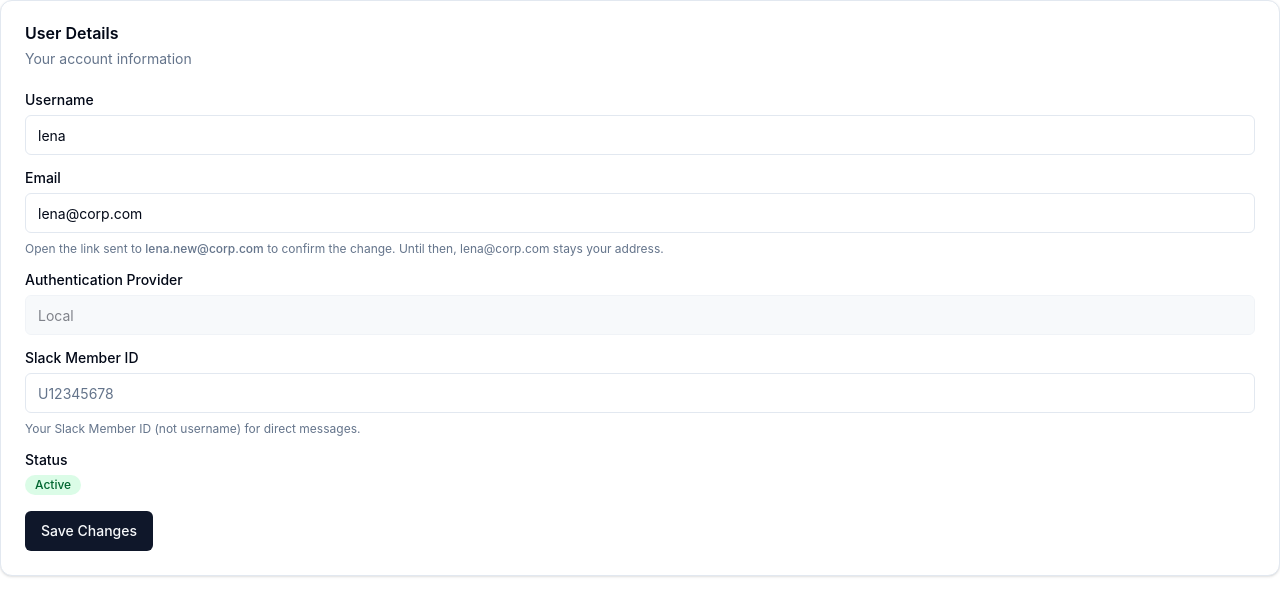
Test: UserDetailsCard › drops the notice of an earlier pending change once the address changed at once
Replace the text in the field labelled "Email" with "lena.k@corp.com" at (640, 213), box [25,193,1255,233]
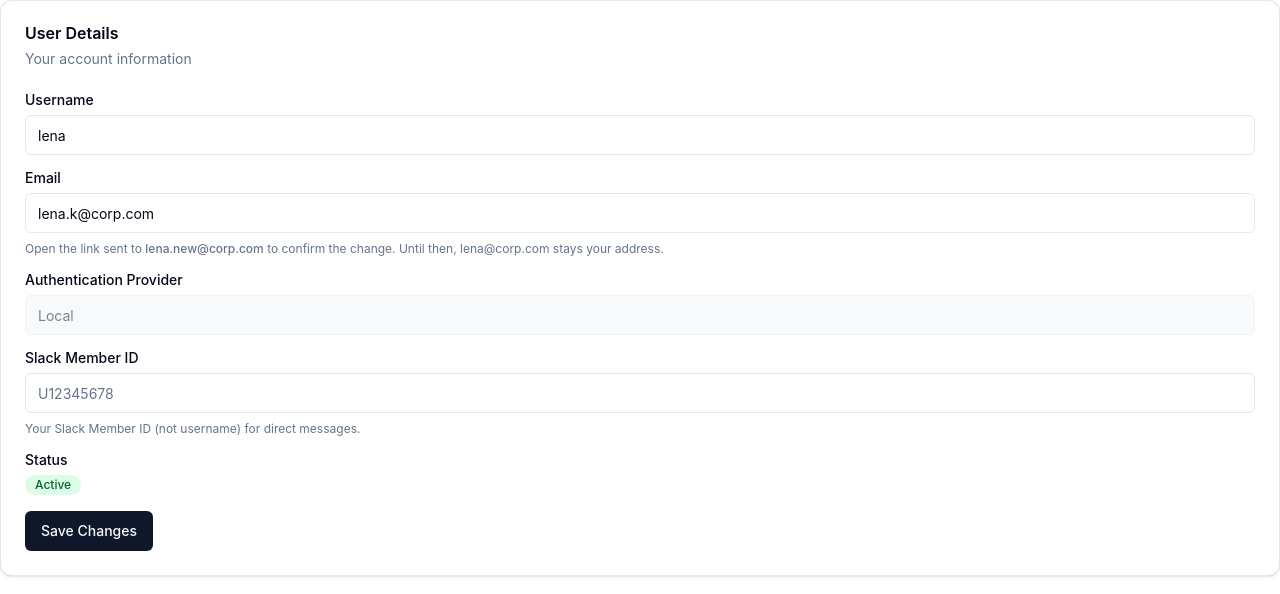
Click the button "Save Changes" at (89, 531), box [25,511,153,551]
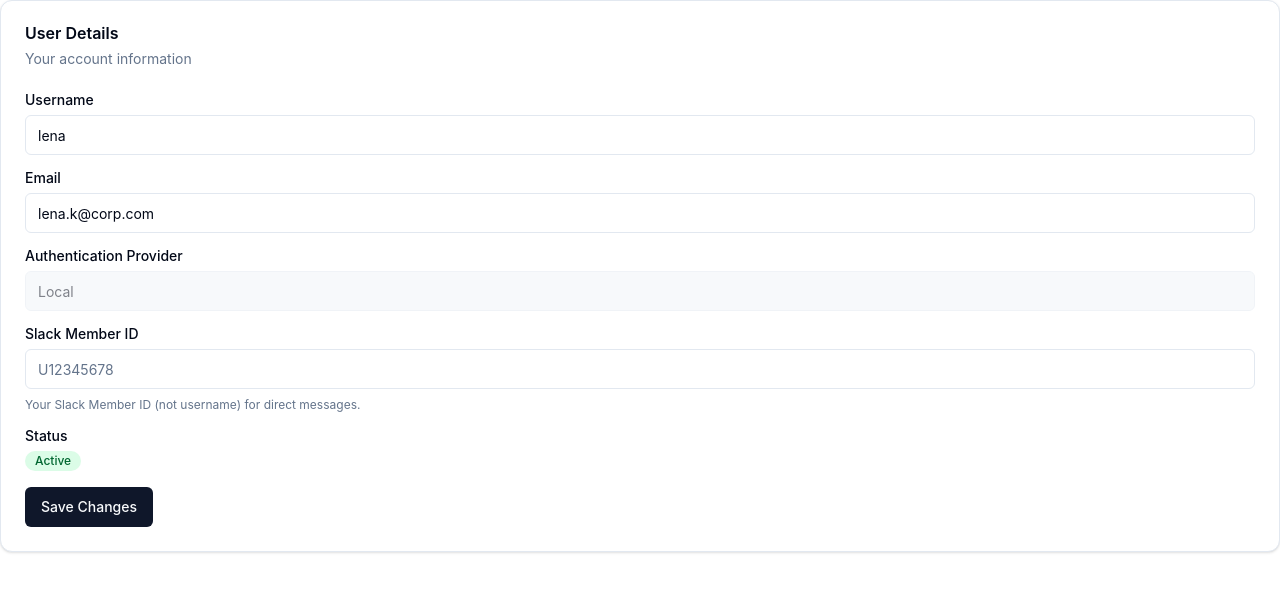
Expected: the text "Open the link" is gone
